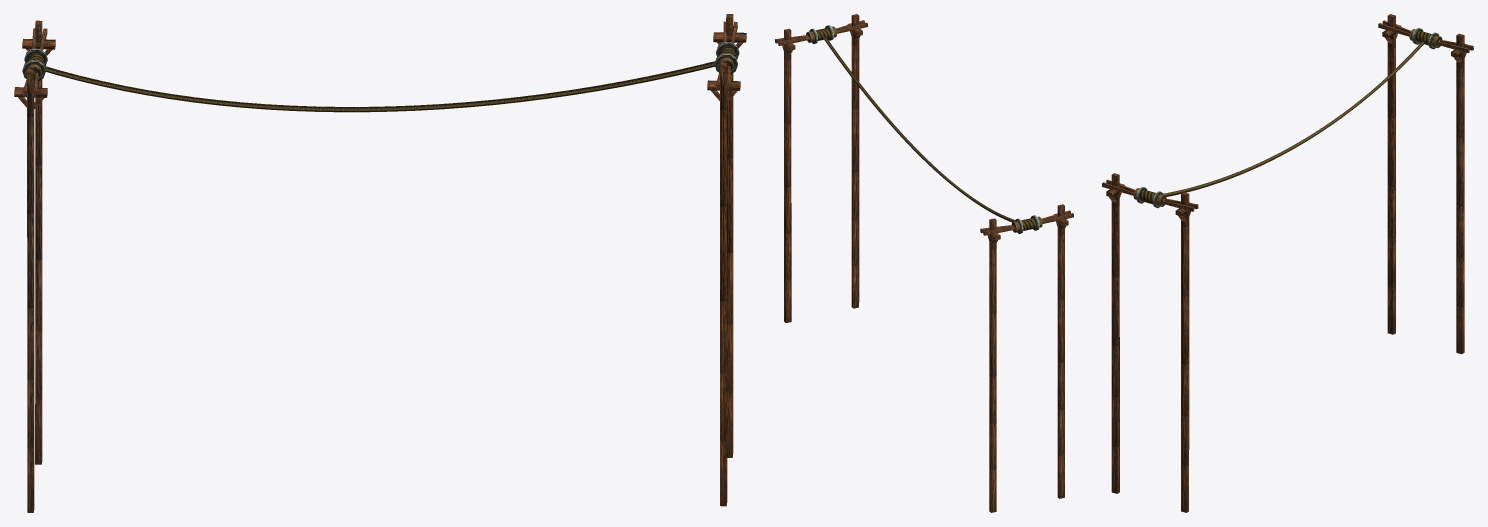
The model's file is RM_ROPE_POLES.fbx.
The picture shows the model from 3 angles, left to right: view 1: azimuth 30°, elevation 25°; view 2: azimuth 150°, elevation 25°; view 3: azimuth 270°, elevation 25°; orthographic projection. The views are drawn at different scales.
Visible parts, largest first — view 1: RM_ROPE_POLES; view 2: RM_ROPE_POLES; view 3: RM_ROPE_POLES.
Part boxes in pixels (box(x1,y1,x2,y2)): RM_ROPE_POLES: box(14, 14, 746, 512); RM_ROPE_POLES: box(775, 14, 1073, 512); RM_ROPE_POLES: box(1102, 14, 1473, 512).
Size of the model in its own units: 136386 by 103639 by 104205.
Materials: 6 (6 with a texture image).
